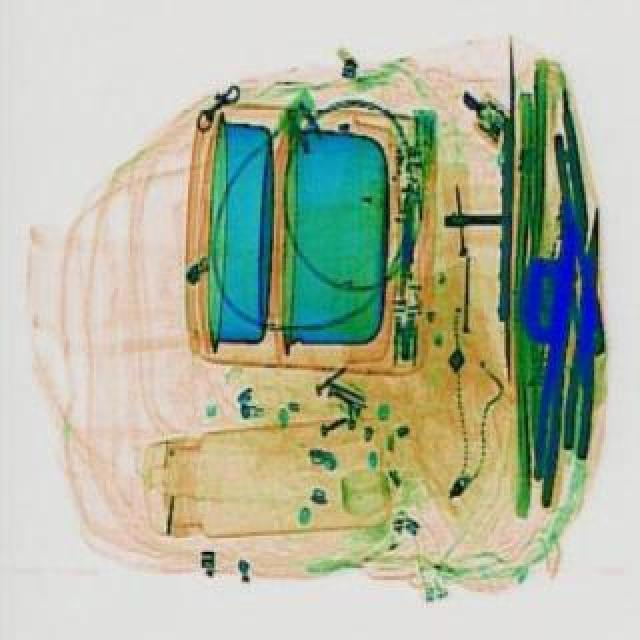wrench: (520, 224, 584, 500), (558, 204, 612, 458)
